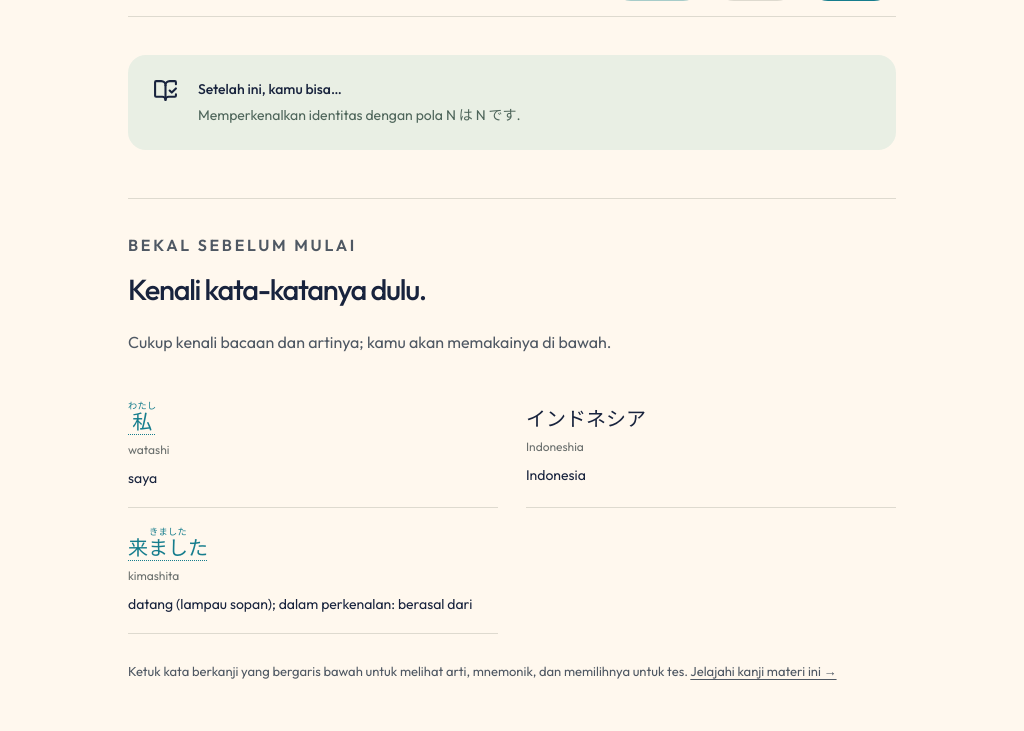
Test case: kanji checklist and tests › opens mnemonic help and selects a word for testing directly from the lesson
This screenshot has width=1024, height=731.
(page scrolled)
Click the button with aria-label "Lihat bacaan dan arti 私" at (142, 420), box [126,400,158,439]
(page scrolled)
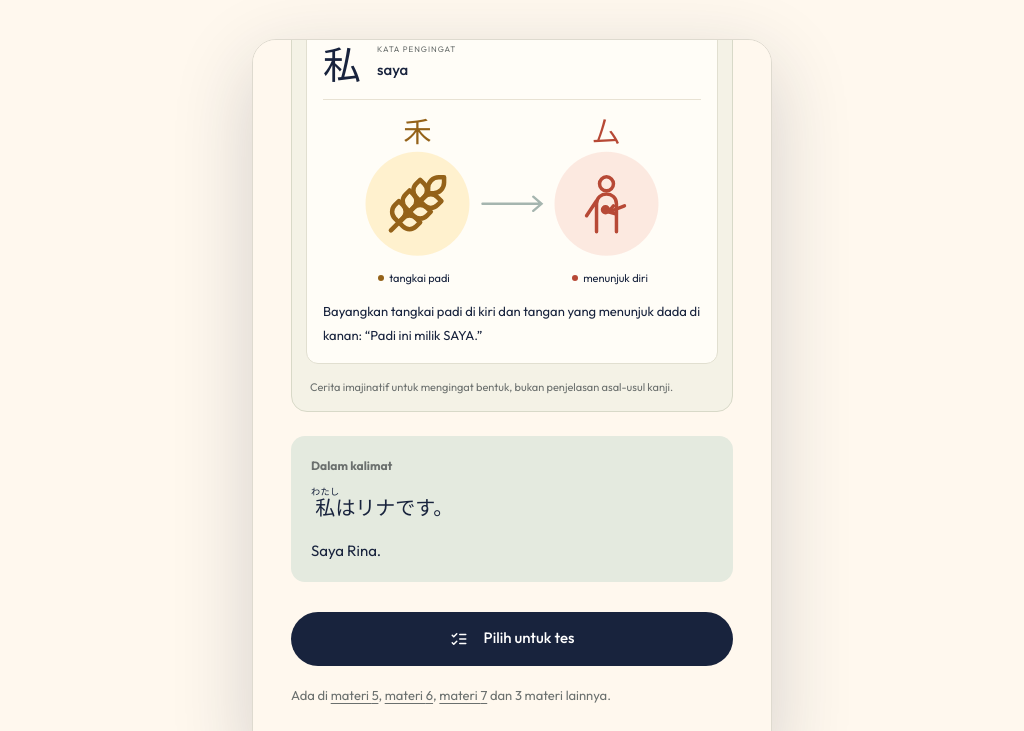
Now the picture named "Gambar pengingat 私: tangkai padi dan menunjuk diri" is shown, box [323,114,701,270]
Click the link "Pilih untuk tes" at (512, 639), box [291,612,733,666]
(page scrolled)
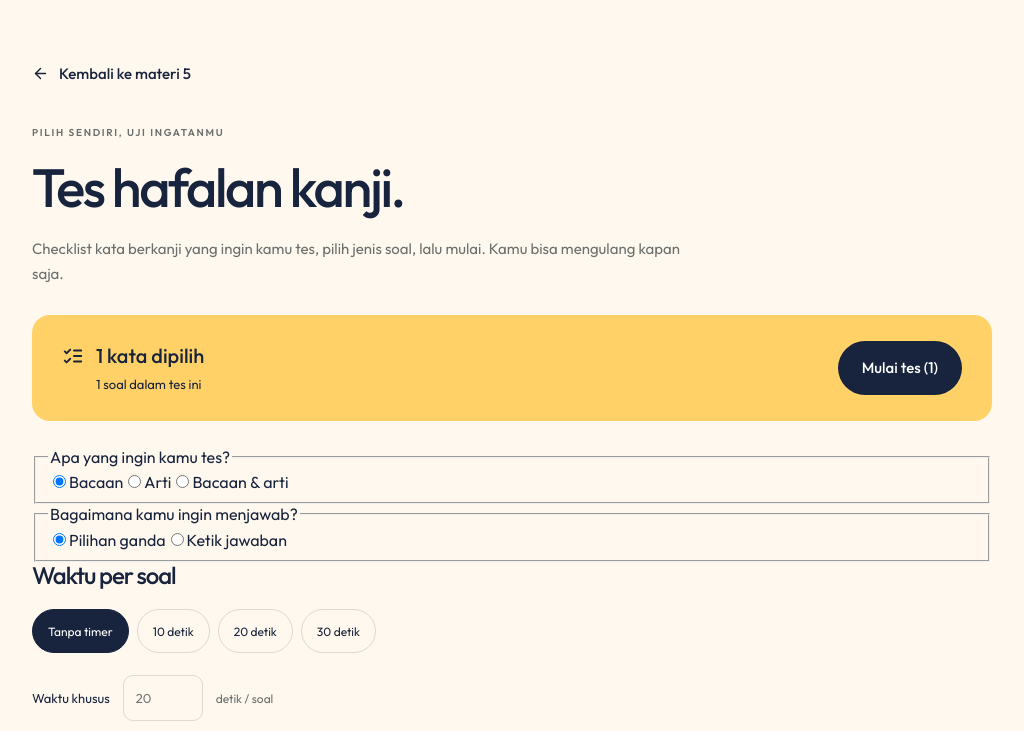
Now the text "1 kata dipilih" is shown, box [96,343,204,368]
